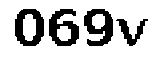0: (11, 5, 45, 49)
6: (46, 7, 81, 50)
9: (81, 7, 118, 53)
v: (117, 14, 157, 51)
